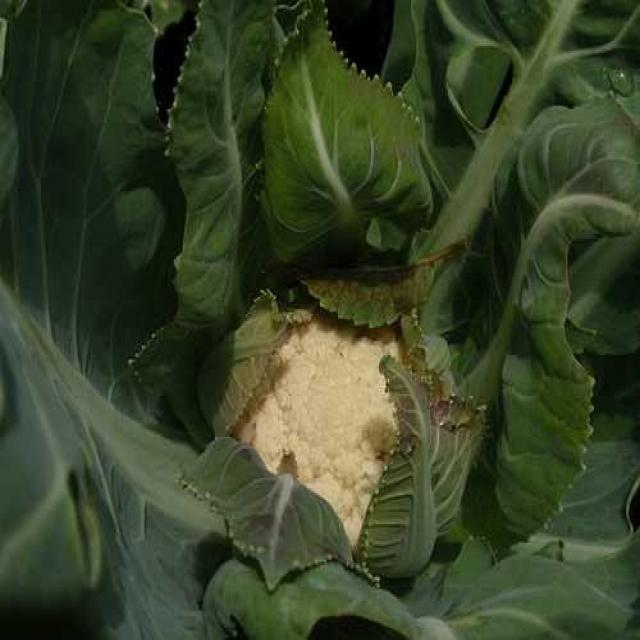cauliflower: (167, 215, 501, 578)
